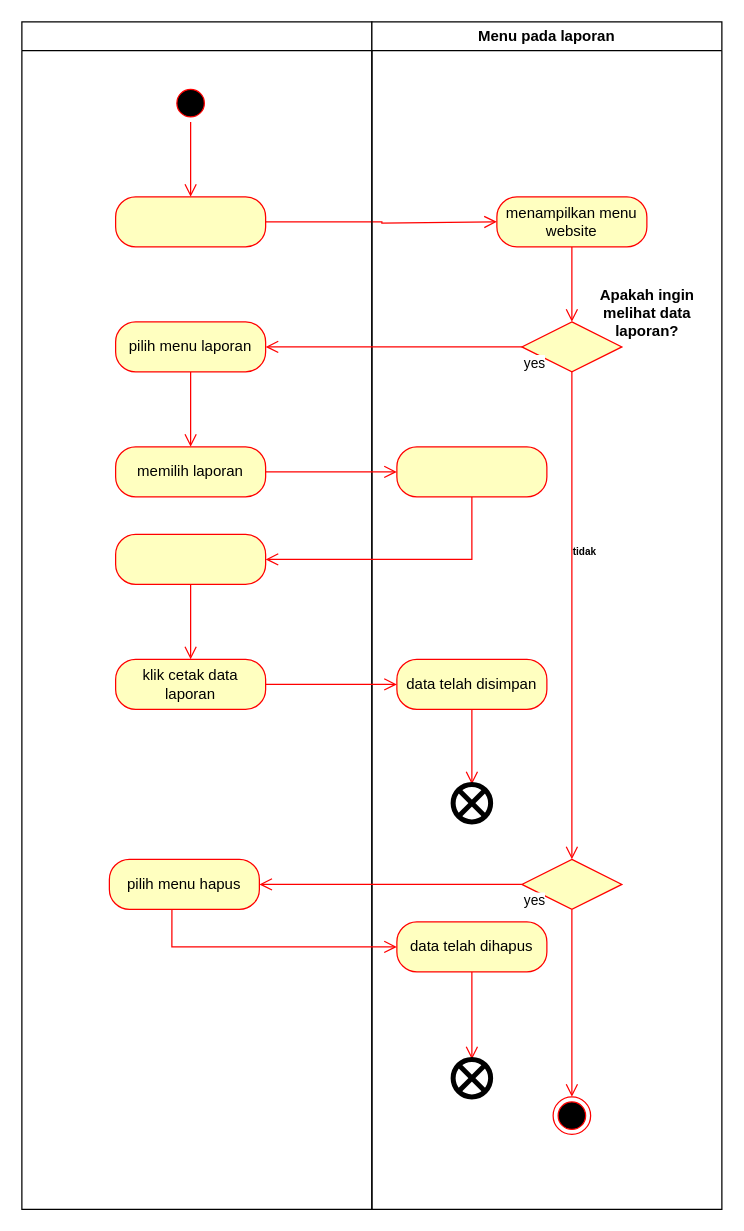
Some shapes in this 744 by 1231 pixel diagram are drawn without their labels. Each missing label, with the box of its shape:
Admin: (21, 21, 372, 1209)
Masuk menu: (114, 196, 266, 247)
menampilkan daftar pertanyaan: (396, 446, 547, 497)
pilih data laporan: (114, 533, 266, 584)
